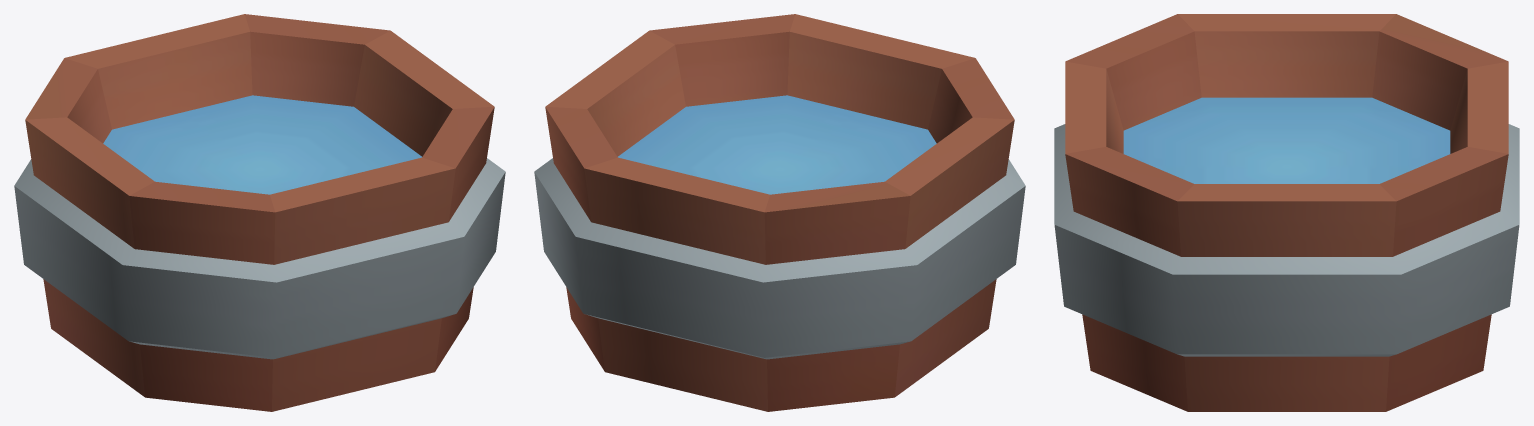
The model's file is trough.glb.
3 renders of one model, left to right at view 1: azimuth 30°, elevation 25°; view 2: azimuth 150°, elevation 25°; view 3: azimuth 270°, elevation 25°, orthographic. The views are drawn at different scales.
Visible parts, largest first — view 1: trough; view 2: trough; view 3: trough.
Part boxes in pixels (x1,y1,x2,y2): trough: [14, 14, 505, 411]; trough: [534, 14, 1025, 411]; trough: [1054, 14, 1519, 411].
Size of the model in its own units: 0.2 by 0.105 by 0.2.
Materials: 1 (1 with a texture image).
